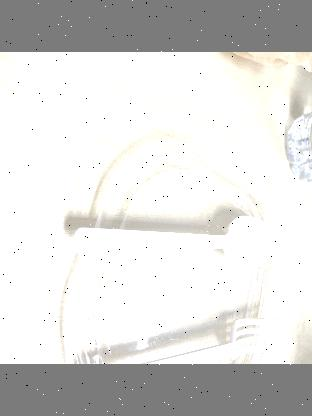Others: (70, 214, 282, 272), (118, 310, 290, 364)
